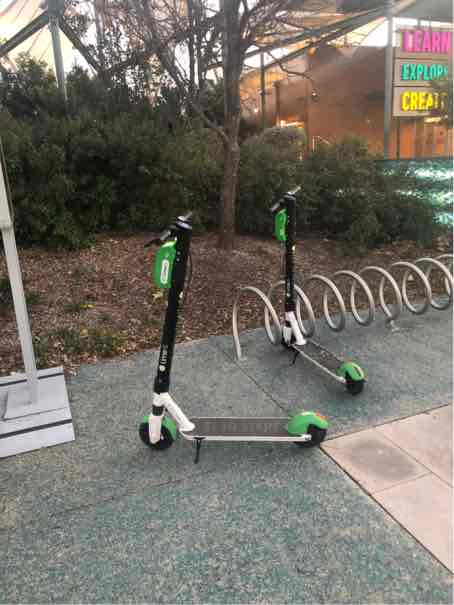scooter: (132, 203, 333, 460), (258, 190, 364, 386)
